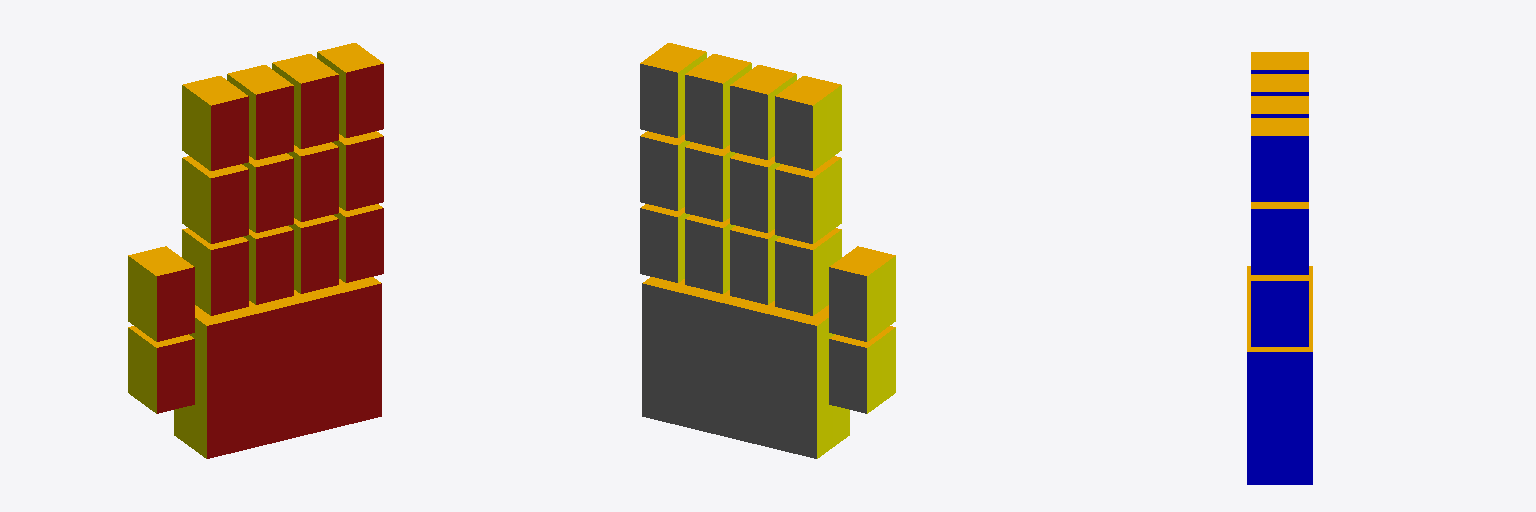
3 renders of one model, left to right at view 1: azimuth 30°, elevation 25°; view 2: azimuth 150°, elevation 25°; view 3: azimuth 270°, elevation 25°, orthographic.
Parts seen in each view (by area): view 1: pCube5, pCube18, pCube14, pCube10, pCube19, pCube9, pCube15, pCube16, pCube17, pCube11, pCube12, pCube13 (+3 smaller); view 2: pCube5, pCube18, pCube14, pCube10, pCube19, pCube9, pCube15, pCube16, pCube17, pCube11, pCube12, pCube13 (+3 smaller); view 3: pCube5, pCube15, pCube11, pCube6, pCube14, pCube16, pCube17.
Boxes of the visible parts, x1,y1,x2,y2 form: pCube5: [174, 277, 381, 458]; pCube18: [128, 246, 194, 341]; pCube14: [182, 76, 248, 170]; pCube10: [182, 156, 248, 243]; pCube19: [128, 326, 194, 413]; pCube9: [182, 228, 248, 315]; pCube15: [317, 43, 383, 137]; pCube16: [272, 54, 338, 148]; pCube17: [227, 65, 293, 159]; pCube11: [332, 131, 383, 210]; pCube12: [287, 142, 338, 221]; pCube13: [242, 153, 293, 232]; pCube5: [642, 277, 849, 458]; pCube18: [829, 246, 895, 341]; pCube14: [775, 76, 841, 170]; pCube10: [775, 156, 841, 243]; pCube19: [829, 326, 895, 413]; pCube9: [775, 228, 841, 315]; pCube15: [640, 43, 706, 137]; pCube16: [685, 54, 751, 148]; pCube17: [730, 65, 796, 159]; pCube11: [640, 131, 691, 210]; pCube12: [685, 142, 736, 221]; pCube13: [730, 153, 781, 232]; pCube5: [1247, 266, 1312, 484]; pCube15: [1251, 118, 1308, 201]; pCube11: [1251, 202, 1308, 274]; pCube6: [1251, 275, 1308, 346]; pCube14: [1251, 52, 1308, 73]; pCube16: [1251, 96, 1308, 117]; pCube17: [1251, 74, 1308, 95].
Size of the model in its own units: 5.15 by 7.58 by 1.28.
6 materials, 5 textured.